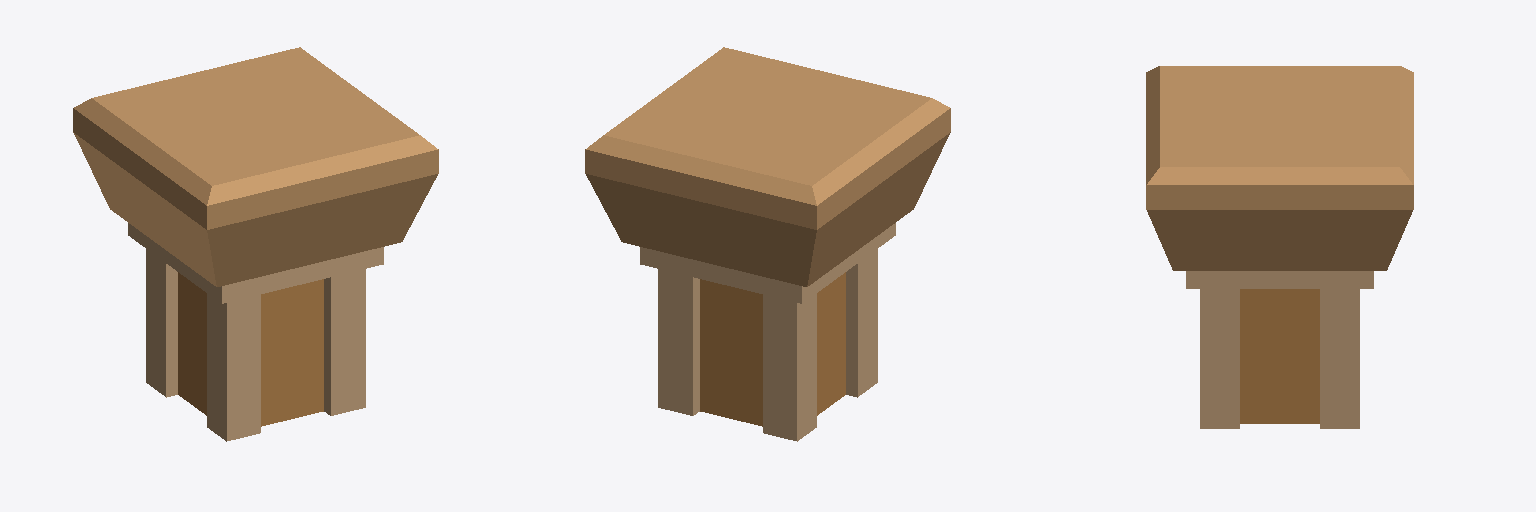
File: Pillar_Large_Top.obj
3 renders of one model, left to right at view 1: azimuth 30°, elevation 25°; view 2: azimuth 150°, elevation 25°; view 3: azimuth 270°, elevation 25°, orthographic.
Visible parts, largest first — view 1: object1, object2; view 2: object1, object2; view 3: object1, object2.
Part boxes in pixels (bbox=[...]): object1: bbox=[73, 47, 438, 303]; object2: bbox=[146, 249, 365, 441]; object1: bbox=[585, 47, 950, 303]; object2: bbox=[658, 249, 877, 441]; object1: bbox=[1146, 66, 1413, 288]; object2: bbox=[1200, 289, 1359, 428].
Size of the model in its own units: 1 by 1.15 by 1.